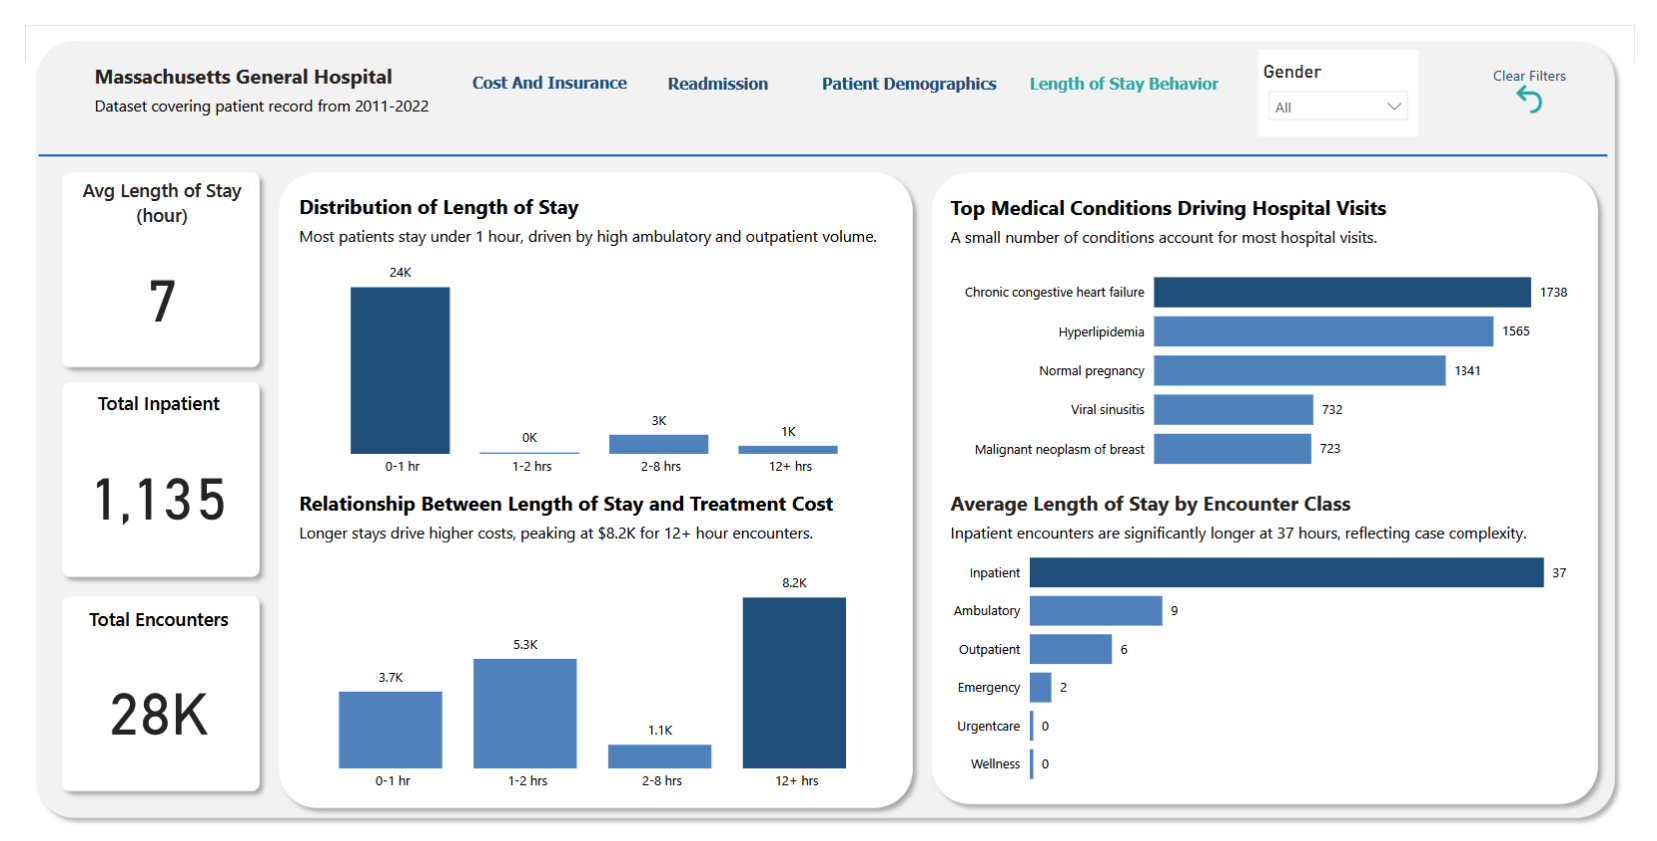

The page's visual inventory and layout, read from the dashboard file:
{"tool":"powerbi","page":{"name":"LENGTH OF STAY ","canvas":[1410,750],"ordinal":3},"visuals":[{"type":"shape","box":[11.4,6.5,1384.2,743.3],"z":0},{"type":"textbox","title":"Massachusetts General Hospital","box":[57.5,48.1,313.7,77.6],"z":1000},{"type":"actionButton","box":[358.1,42.2,123.6,40.7],"z":2000},{"type":"actionButton","box":[481.7,42.2,151.7,40.7],"z":3000},{"type":"actionButton","box":[633.4,42.2,189.2,40.7],"z":4000},{"type":"actionButton","box":[822.6,42.2,209.6,40.7],"z":5000},{"type":"shape","box":[28.3,111.7,1351.7,15],"z":6000},{"type":"shape","box":[43.5,124.3,649.7,610.8],"z":7000},{"type":"shape","box":[693.2,129,666.8,607.7],"z":8000},{"type":"columnChart","title":"Distribution of Length of Stay","fields":{"Y":["CountNonNull(encounters.ENCOUNTER ID)"],"Category":["encounters.Stay Group"]},"box":[57.5,158.5,599.9,273.5],"z":9000},{"type":"columnChart","title":"Relationship Between Length of Stay and Treatment Cost","fields":{"Category":["encounters.Stay Group"],"Y":["encounters.Avg Cost"]},"box":[57.5,486.5,617,237.8],"z":10000},{"type":"textbox","box":[57.5,430.5,599.9,76.2],"z":11000},{"type":"shape","box":[1052.5,28.2,315.9,82.9],"z":12000},{"type":"slicer","title":"GENDER","fields":{"Values":["patients.GENDER"]},"box":[1052.5,32.8,150.1,76.6],"z":13000},{"type":"slicer","fields":{"Values":["encounters.ENCOUNTERCLASS"]},"box":[1199.6,34.4,179.9,76.6],"z":14000},{"type":"barChart","title":"Top Medical Conditions Driving Hospital Visits","fields":{"Category":["encounters.REASONDESCRIPTION"],"Y":["CountNonNull(encounters.REASONDESCRIPTION)"]},"box":[719.6,155.4,615.5,488],"z":20000}]}

Visuals, with their boxes on the page's 1410x750 design canvas (x1, y1, x2, y2). These are canvas units, not pixel positions in the 1657x841 screenshot, which may show the page scaled, cropped or inside an application window:
shape: rect(11, 6, 1396, 750)
"Massachusetts General Hospital" textbox: rect(58, 48, 371, 126)
actionButton: rect(358, 42, 482, 83)
actionButton: rect(482, 42, 633, 83)
actionButton: rect(633, 42, 823, 83)
actionButton: rect(823, 42, 1032, 83)
shape: rect(28, 112, 1380, 127)
shape: rect(44, 124, 693, 735)
shape: rect(693, 129, 1360, 737)
"Distribution of Length of Stay" columnChart: rect(58, 158, 657, 432)
"Relationship Between Length of Stay and Treatment Cost" columnChart: rect(58, 486, 674, 724)
textbox: rect(58, 430, 657, 507)
shape: rect(1052, 28, 1368, 111)
"GENDER" slicer: rect(1052, 33, 1203, 109)
slicer - encounters.ENCOUNTERCLASS: rect(1200, 34, 1380, 111)
"Top Medical Conditions Driving Hospital Visits" barChart: rect(720, 155, 1335, 643)
